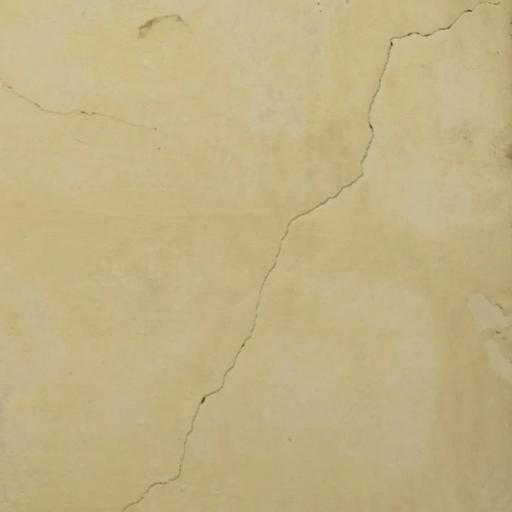minor_crack: (116, 0, 512, 512), (0, 67, 160, 140)
